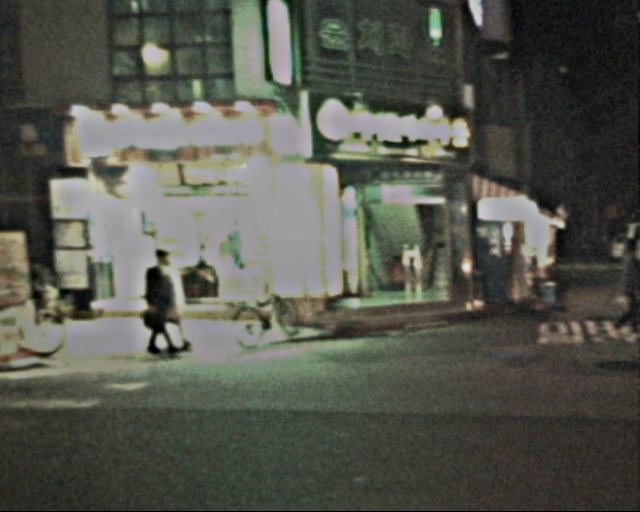person: (126, 245, 186, 361), (589, 226, 640, 348)
